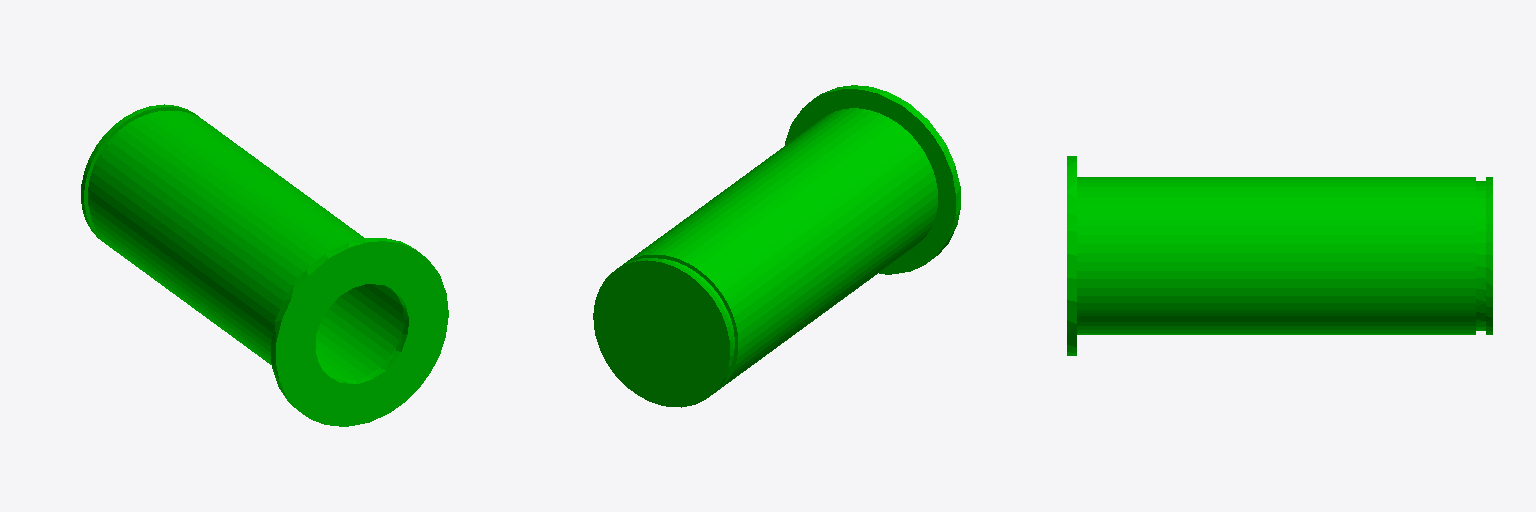
Rendered from green_stack.obj.
The picture shows the model from 3 angles: view 1: azimuth 30°, elevation 25°; view 2: azimuth 150°, elevation 25°; view 3: azimuth 270°, elevation 25°; orthographic projection.
Parts seen in each view (by area): view 1: ShapeIndexedFaceSet.025_ShapeIndexedFaceSet.001; view 2: ShapeIndexedFaceSet.025_ShapeIndexedFaceSet.001; view 3: ShapeIndexedFaceSet.025_ShapeIndexedFaceSet.001.
Part boxes in pixels (left/top/right/bottom): ShapeIndexedFaceSet.025_ShapeIndexedFaceSet.001: left=81, top=104, right=448, bottom=426; ShapeIndexedFaceSet.025_ShapeIndexedFaceSet.001: left=593, top=85, right=960, bottom=407; ShapeIndexedFaceSet.025_ShapeIndexedFaceSet.001: left=1067, top=156, right=1492, bottom=355.
Size of the model in its own units: 0.0763 by 0.0763 by 0.1626.